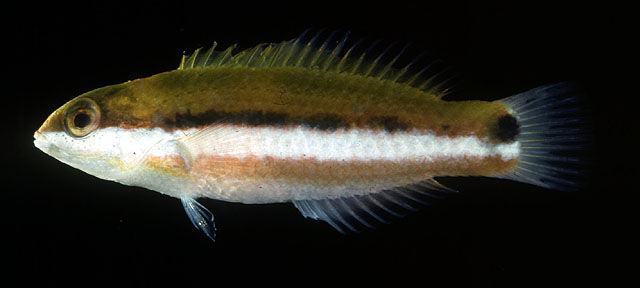fish: (33, 33, 579, 243)
